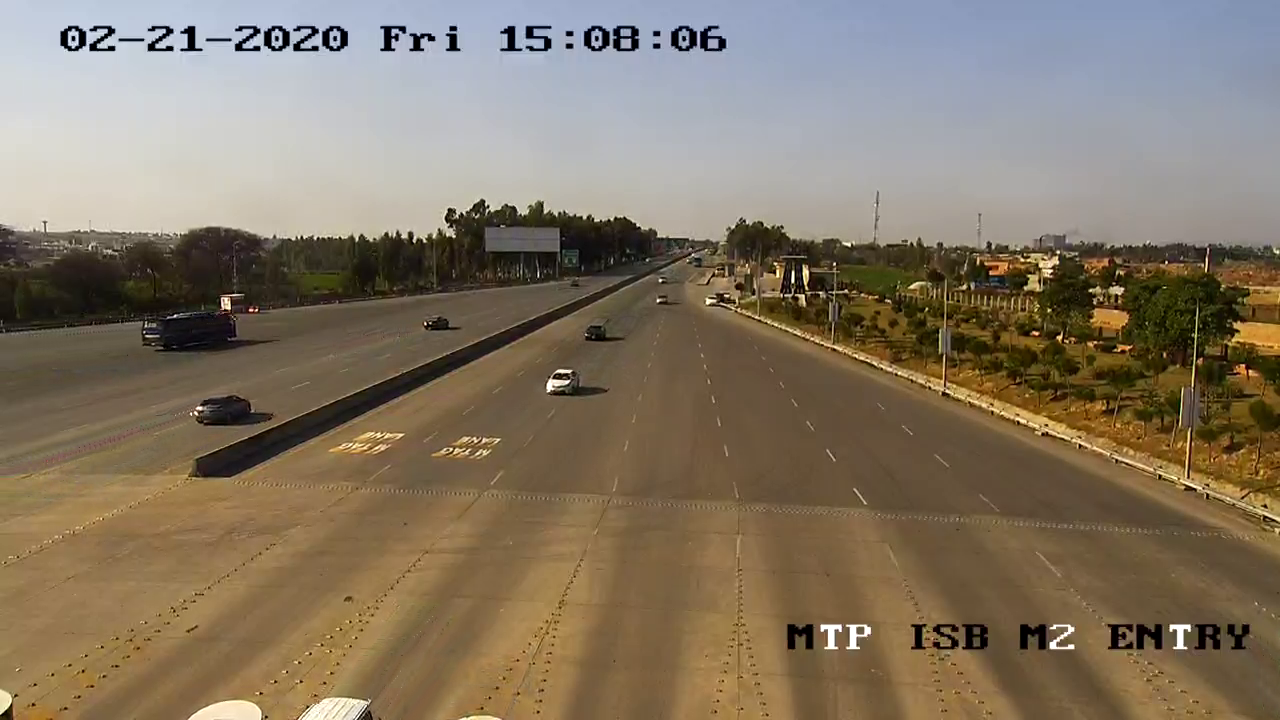f1: (540, 361, 586, 404)
